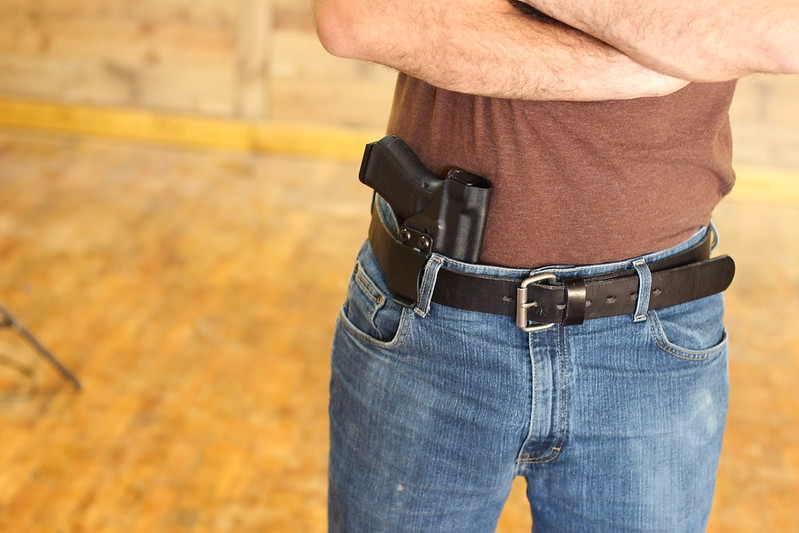gun: (355, 130, 499, 271)
